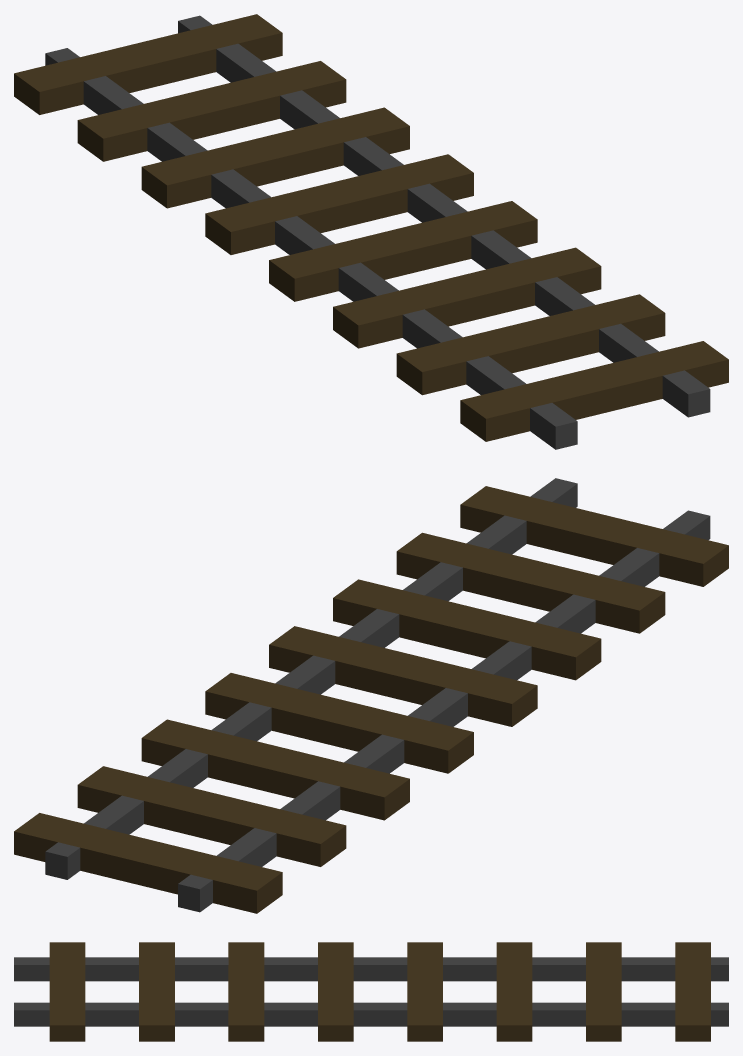
File: TrainTrack.obj
3 views of the same model, one above another, from view 1: azimuth 30°, elevation 25°; view 2: azimuth 150°, elevation 25°; view 3: azimuth 270°, elevation 25° (orthographic). The views are drawn at different scales.
Size of the model in its own units: 1.1 by 0.1 by 4.
1 material, 1 textured.
